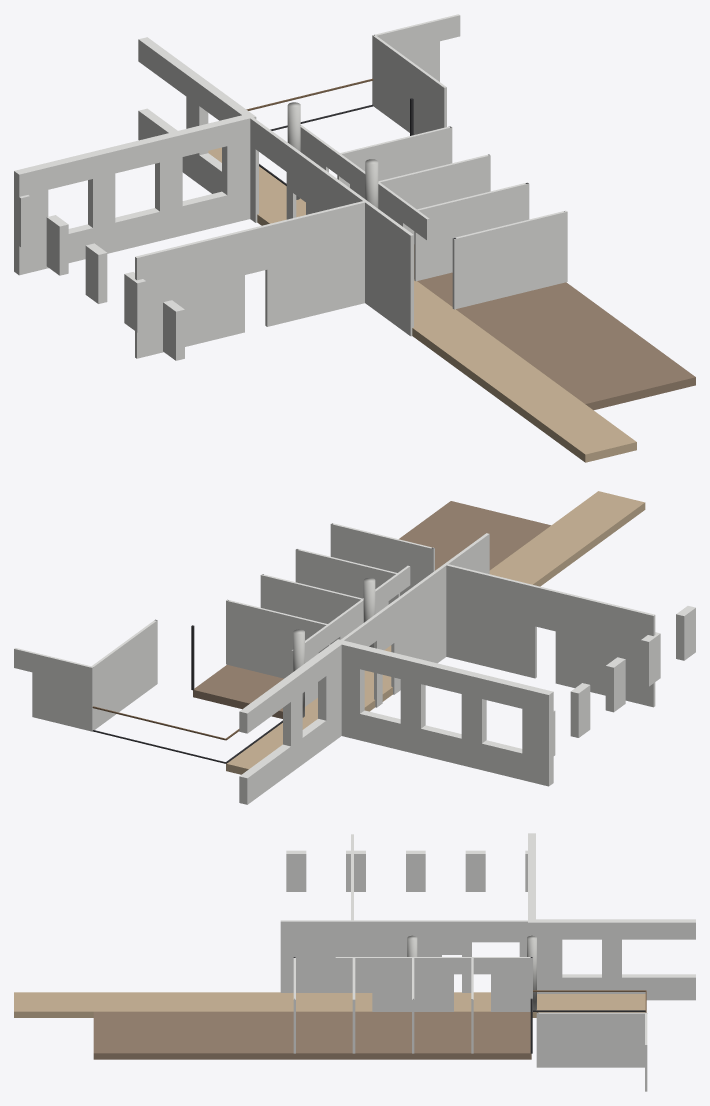
The model's file is SM_Bygg_Helgasetr_P4_V_MN.fbx.
The picture shows the model from 3 angles, top to bottom: view 1: azimuth 30°, elevation 25°; view 2: azimuth 150°, elevation 25°; view 3: azimuth 270°, elevation 25°; orthographic projection. The views are drawn at different scales.
Parts seen in each view (by area): view 1: SM_Bygg_Helgasetr_P4_V_MN; view 2: SM_Bygg_Helgasetr_P4_V_MN; view 3: SM_Bygg_Helgasetr_P4_V_MN.
Boxes of the visible parts, <box> form: SM_Bygg_Helgasetr_P4_V_MN: <box>14,14,695,462</box>; SM_Bygg_Helgasetr_P4_V_MN: <box>14,491,695,804</box>; SM_Bygg_Helgasetr_P4_V_MN: <box>14,833,695,1091</box>.
Bounding box in the file's own units: 34.25 × 23.1 × 4.3.
